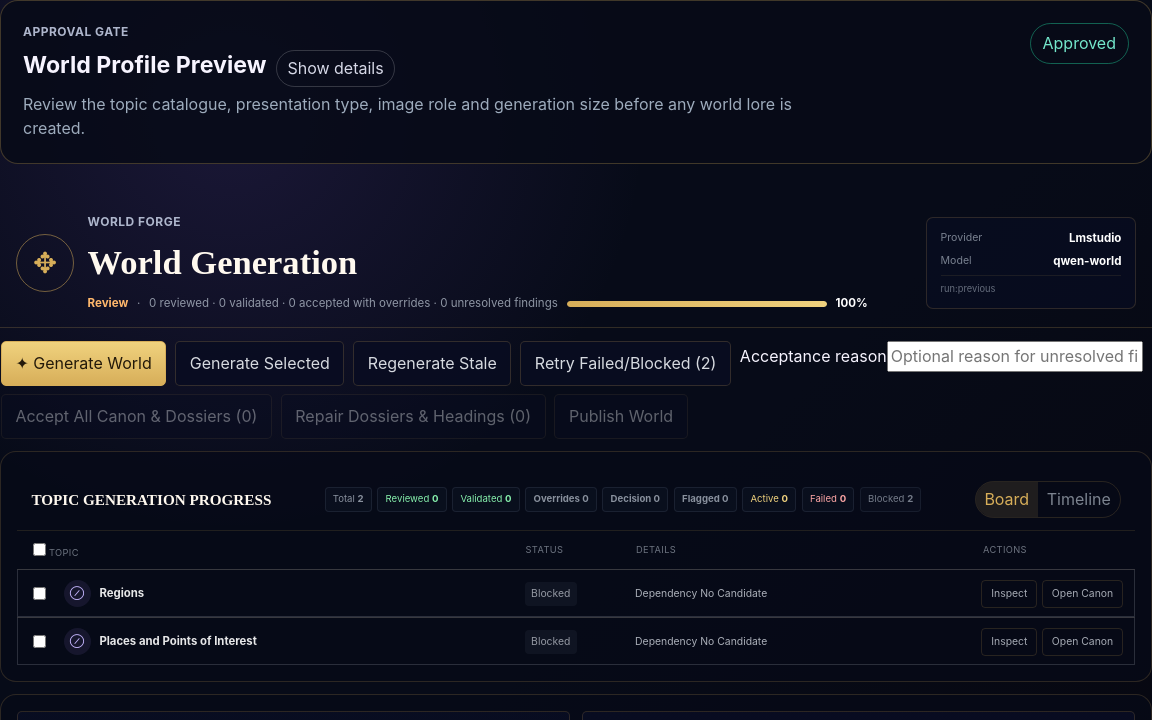
Scenario: RpgWorldGenerationDashboard › selects and clears every retryable topic from the table header
Click the checkbox named "Select all retryable topics" at (40, 550), box top-left (33, 543), bottom-right (46, 556)
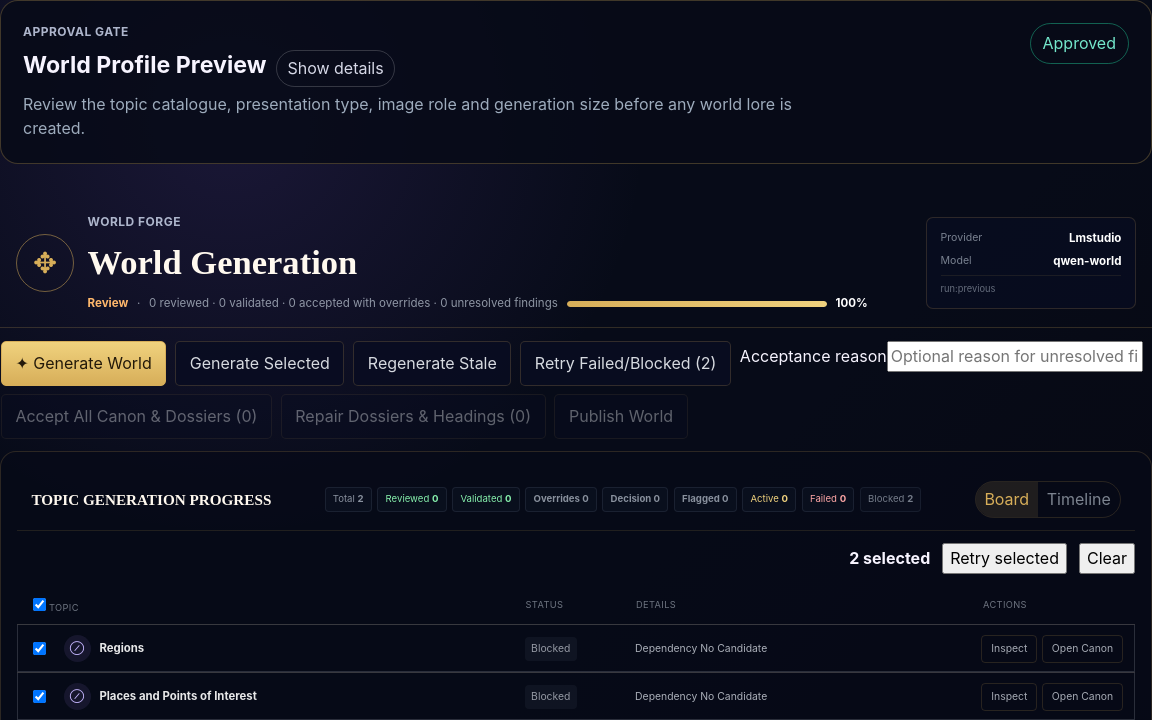
Now the checkbox named "Select all retryable topics" is checked
Now the text "2 selected" is shown, box top-left (849, 546), bottom-right (930, 571)
Click the checkbox named "Select all retryable topics" at (40, 605), box top-left (33, 598), bottom-right (46, 611)
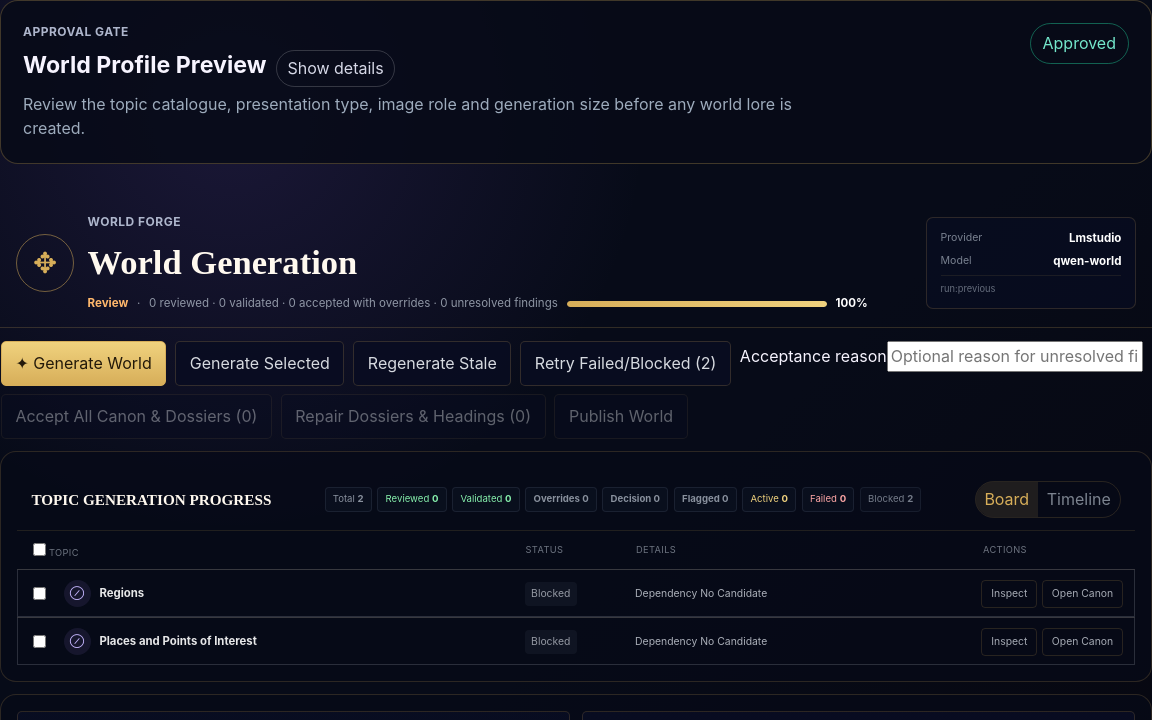
Now the checkbox named "Select all retryable topics" is not checked, box top-left (33, 543), bottom-right (46, 556)
Now the text "2 selected" is gone
